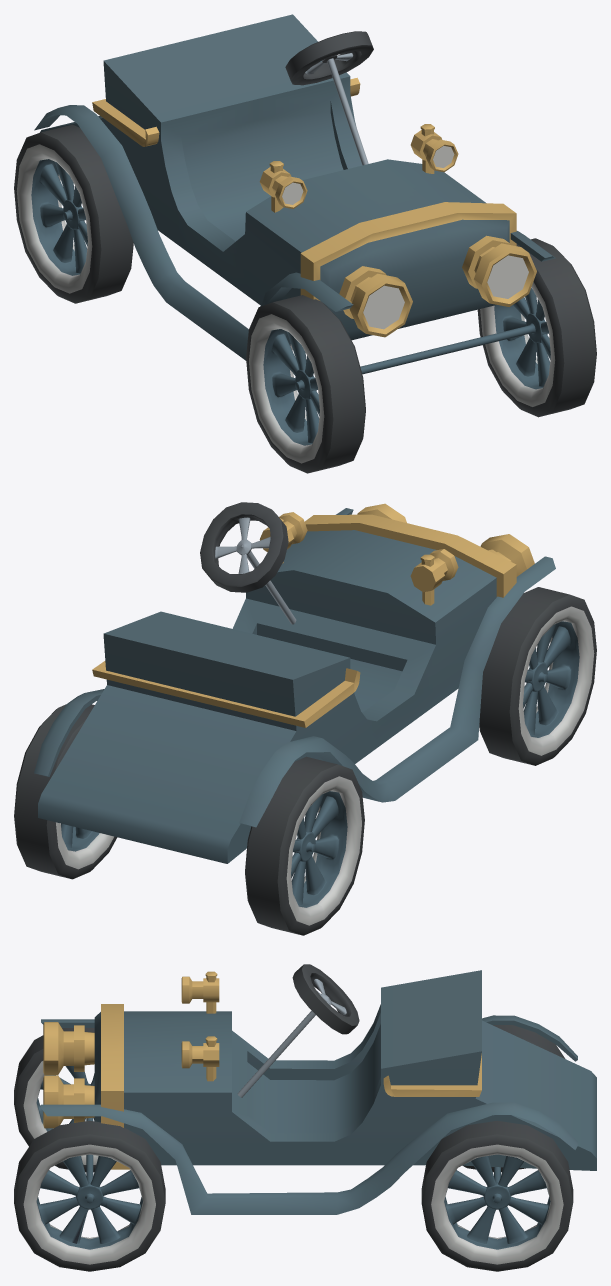
File: Car.fbx
3 renders of one model, top to bottom at view 1: azimuth 30°, elevation 25°; view 2: azimuth 150°, elevation 25°; view 3: azimuth 270°, elevation 25°, orthographic. The views are drawn at different scales.
Parts seen in each view (by area): view 1: Car; view 2: Car; view 3: Car.
Part boxes in pixels (x1,y1,x2,y2): Car: [14, 14, 596, 473]; Car: [14, 502, 596, 935]; Car: [14, 964, 596, 1271].
Size of the model in its own units: 94.11 by 100 by 200.
